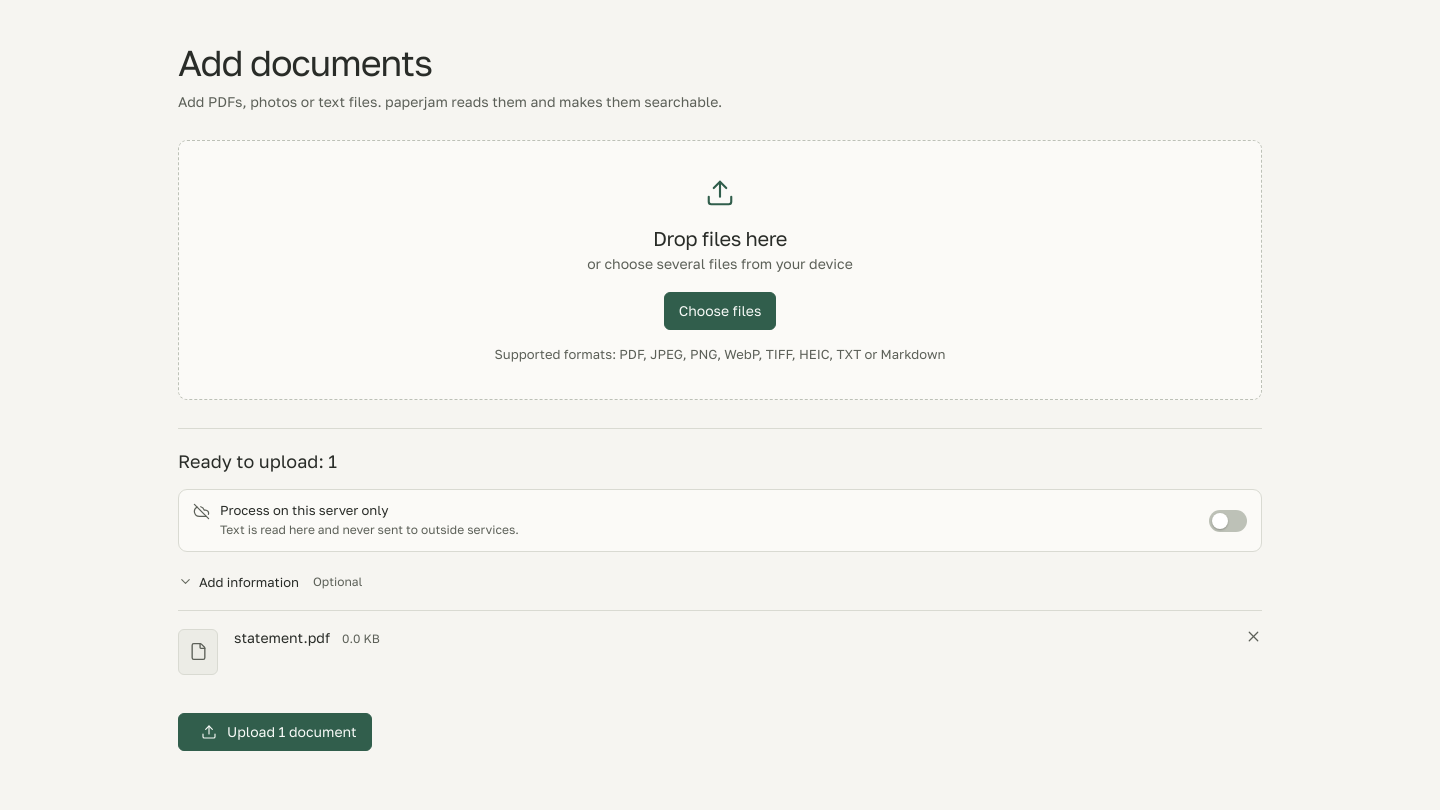
Test: UploadPage › links to the document once it is added and says the batch is Added
Earlier steps of the test are not shown.
Click the button with class "upload-start" at (275, 732), box [178,713,372,751]
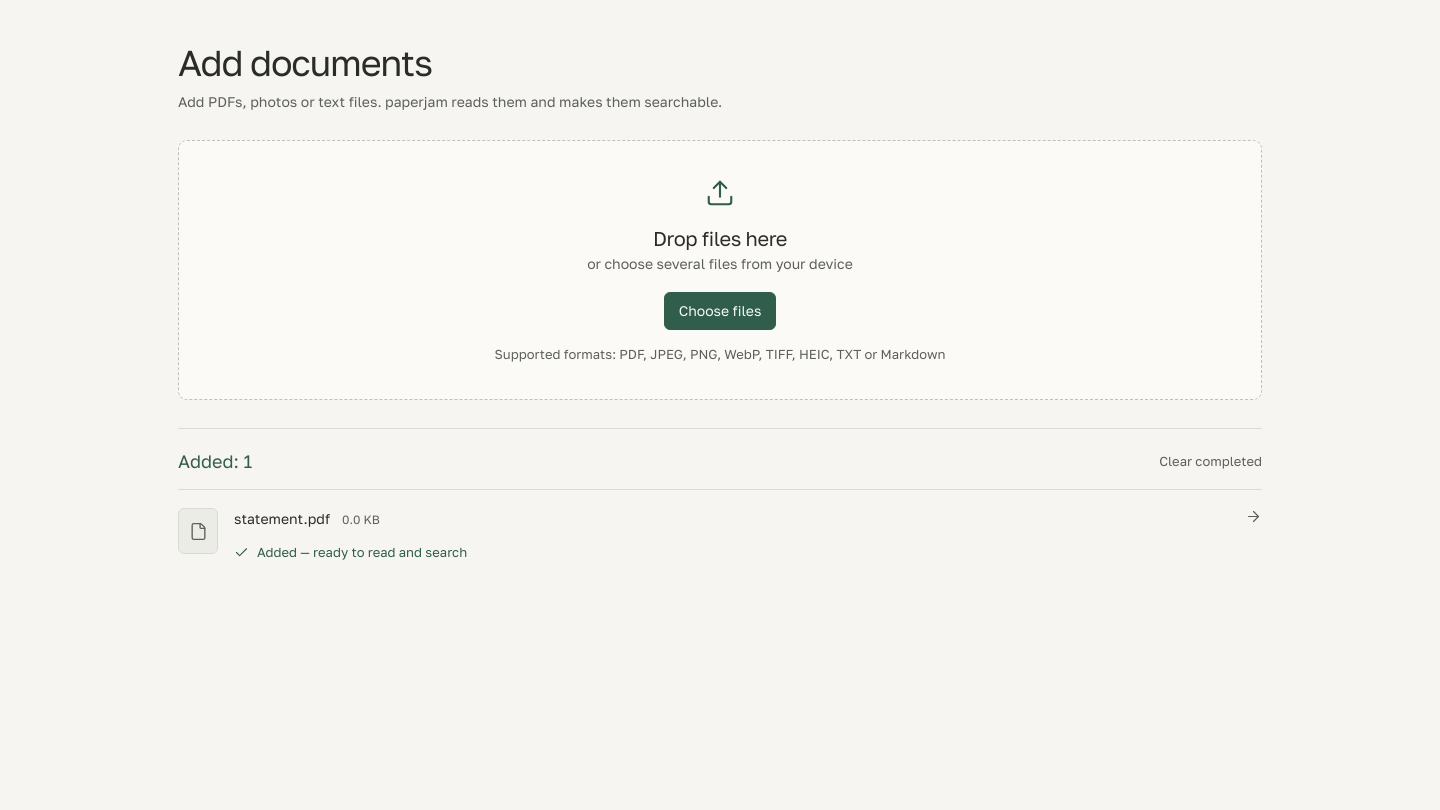
expect the text "statement.pdf" is shown: met, box [234,510,330,527]
expect the heading with id "upload-queue-title" reads "Added: 1": met, box [178,450,252,472]
expect the message with class "upload-status" shows "Added": met, box [257,544,467,560]
